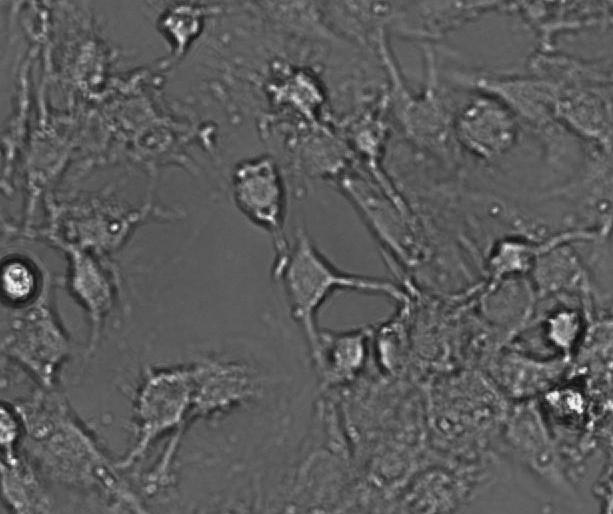Dead: (536, 375, 602, 432), (156, 2, 211, 56), (1, 254, 46, 307), (1, 392, 26, 467)
